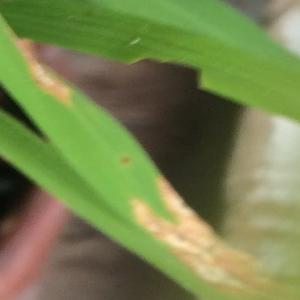Rice_Blast: (120, 150, 249, 287), (17, 37, 90, 110)
